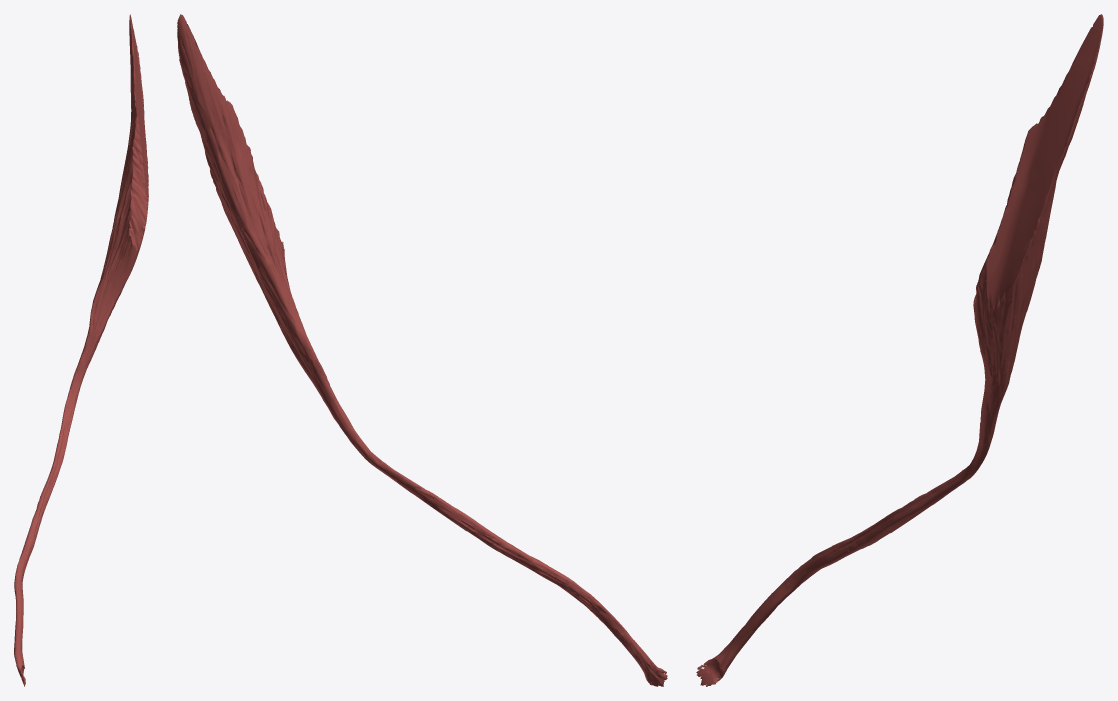
File: FMA38522.glb
The picture shows the model from 3 angles, left to right: view 1: azimuth 30°, elevation 25°; view 2: azimuth 150°, elevation 25°; view 3: azimuth 270°, elevation 25°; orthographic projection. The views are drawn at different scales.
Visible parts, largest first — view 1: FMA38522; view 2: FMA38522; view 3: FMA38522.
Part boxes in pixels (<box>): FMA38522: <box>14,14,148,686</box>; FMA38522: <box>177,14,667,686</box>; FMA38522: <box>696,14,1103,686</box>.
Size of the model in its own units: 0.0952 by 0.2025 by 0.0877.
